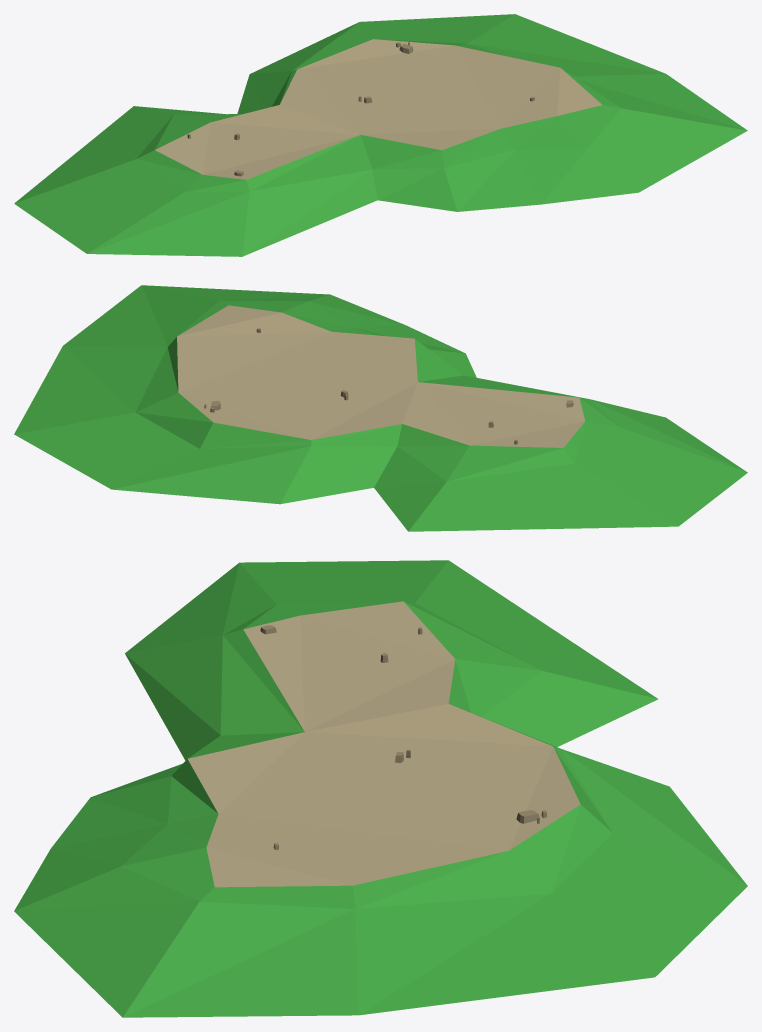
Rendered from Ground_09.FBX.
3 views of the same model, one above another, from view 1: azimuth 30°, elevation 25°; view 2: azimuth 150°, elevation 25°; view 3: azimuth 270°, elevation 25° (orthographic). The views are drawn at different scales.
Parts seen in each view (by area): view 1: Ground_09; view 2: Ground_09; view 3: Ground_09.
Part boxes in pixels (x1,y1,x2,y2): Ground_09: (14, 14, 747, 256); Ground_09: (14, 285, 747, 531); Ground_09: (14, 560, 747, 1017).
Bounding box in the file's own units: 11.49 × 0.6867 × 7.79.
